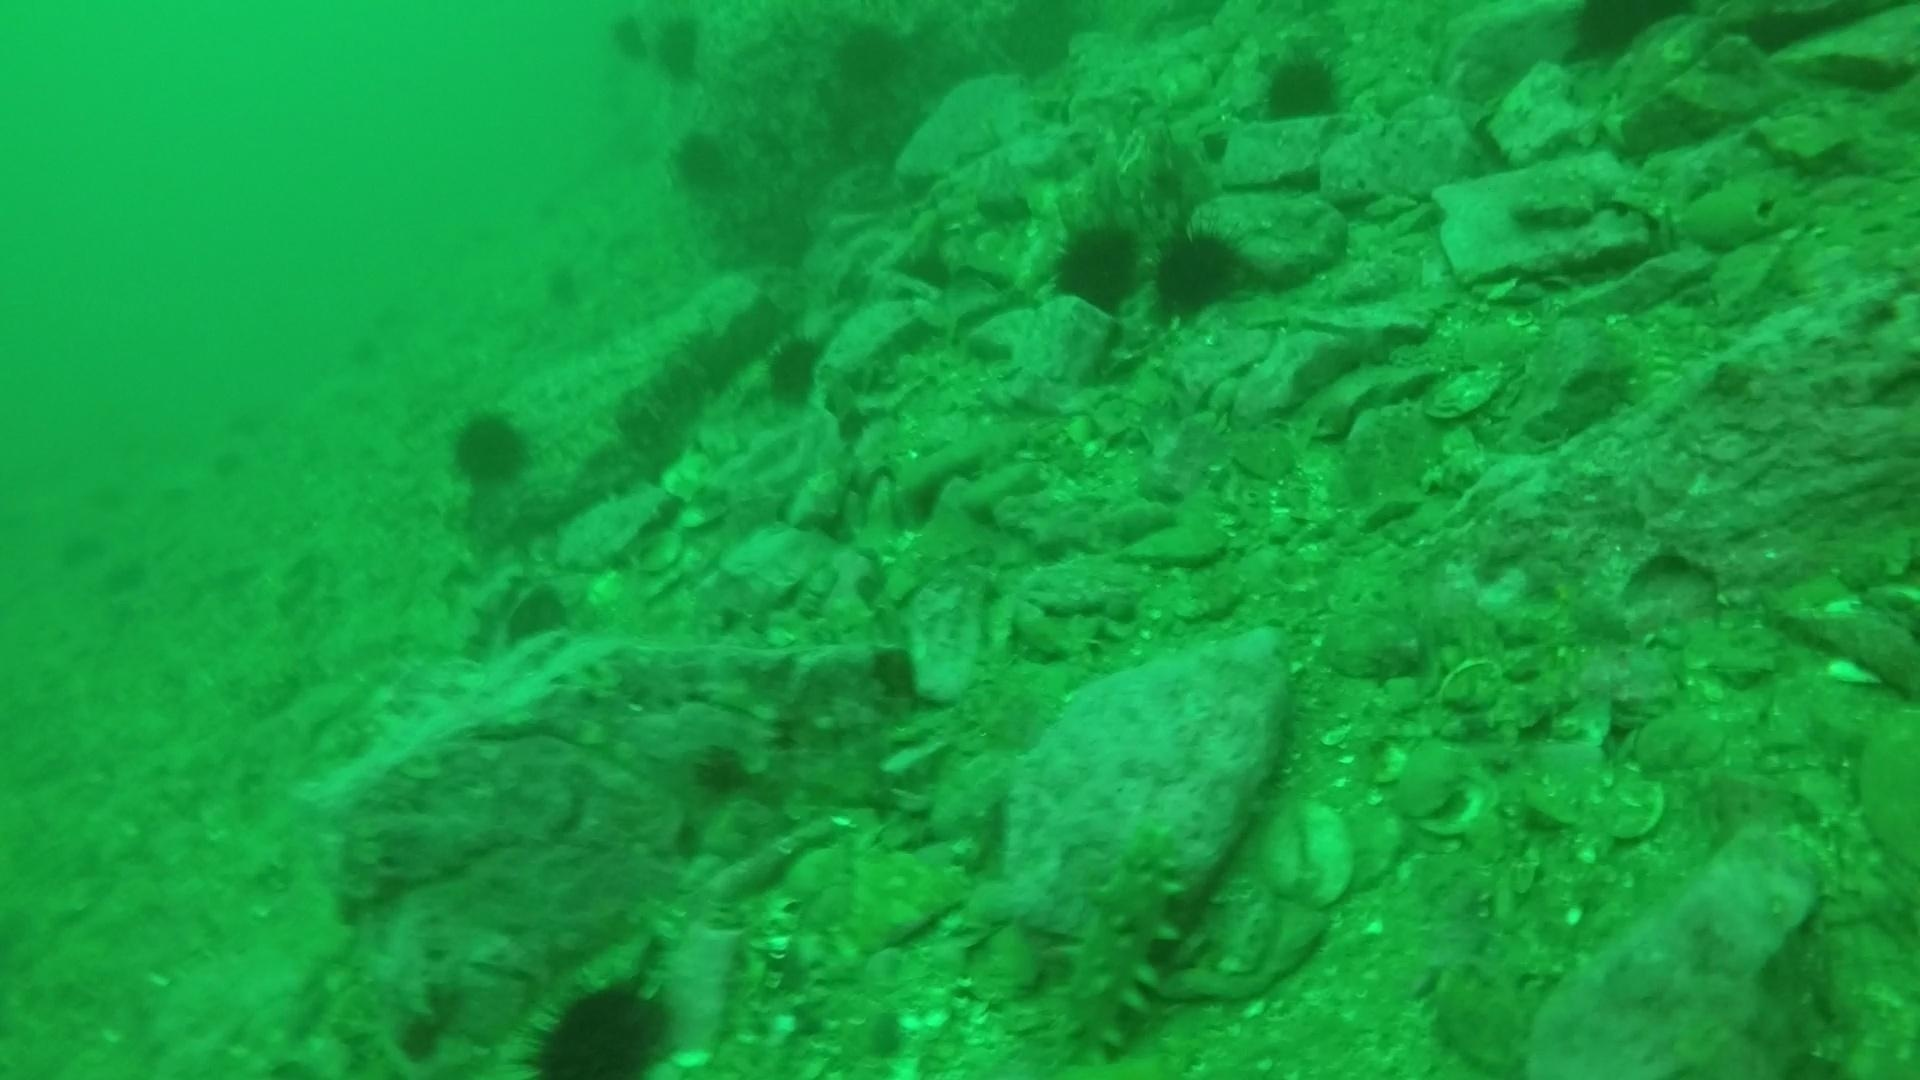echinus: (520, 972, 682, 1076), (1145, 220, 1251, 324), (1046, 214, 1147, 316), (1557, 1, 1695, 69), (444, 405, 537, 493), (1253, 46, 1350, 129), (825, 17, 914, 98), (756, 328, 833, 414), (665, 124, 742, 199), (645, 8, 712, 88), (531, 257, 600, 319), (45, 525, 113, 587), (136, 462, 204, 524), (92, 538, 160, 600), (73, 468, 140, 530), (183, 439, 251, 501), (196, 392, 264, 454), (603, 9, 655, 69)
holothurian: (1040, 820, 1197, 1064)
